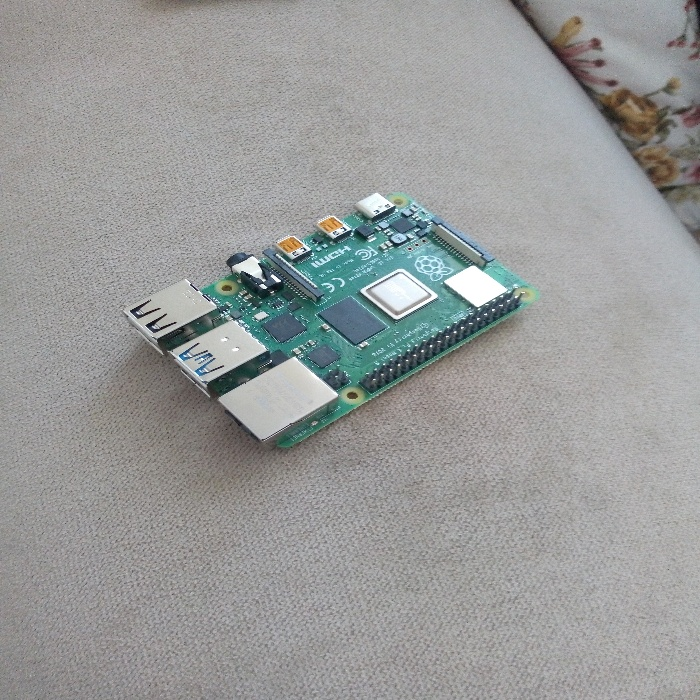raspberry: (104, 176, 515, 437)
